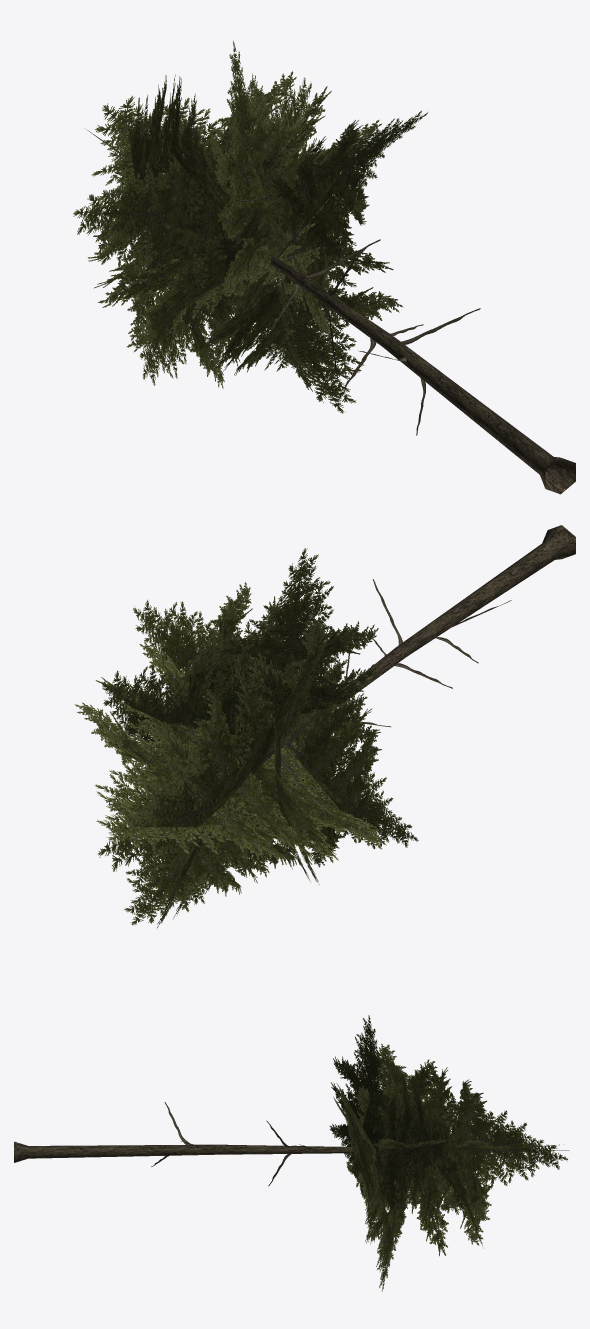
The model's file is MEP_Con_01_e.fbx.
3 renders of one model, top to bottom at view 1: azimuth 30°, elevation 25°; view 2: azimuth 150°, elevation 25°; view 3: azimuth 270°, elevation 25°, orthographic. The views are drawn at different scales.
Visible parts, largest first — view 1: MEP_Con_01_e, MEP_ConTrunk_01_e; view 2: MEP_Con_01_e, MEP_ConTrunk_01_e; view 3: MEP_Con_01_e, MEP_ConTrunk_01_e.
Part boxes in pixels (<box>): MEP_Con_01_e: <box>73,41,480,435</box>; MEP_ConTrunk_01_e: <box>86,129,575,494</box>; MEP_Con_01_e: <box>74,548,511,927</box>; MEP_ConTrunk_01_e: <box>127,525,575,860</box>; MEP_Con_01_e: <box>151,1015,567,1291</box>; MEP_ConTrunk_01_e: <box>14,1141,569,1162</box>.
Size of the model in its own units: 11.94 by 14.96 by 29.73.
